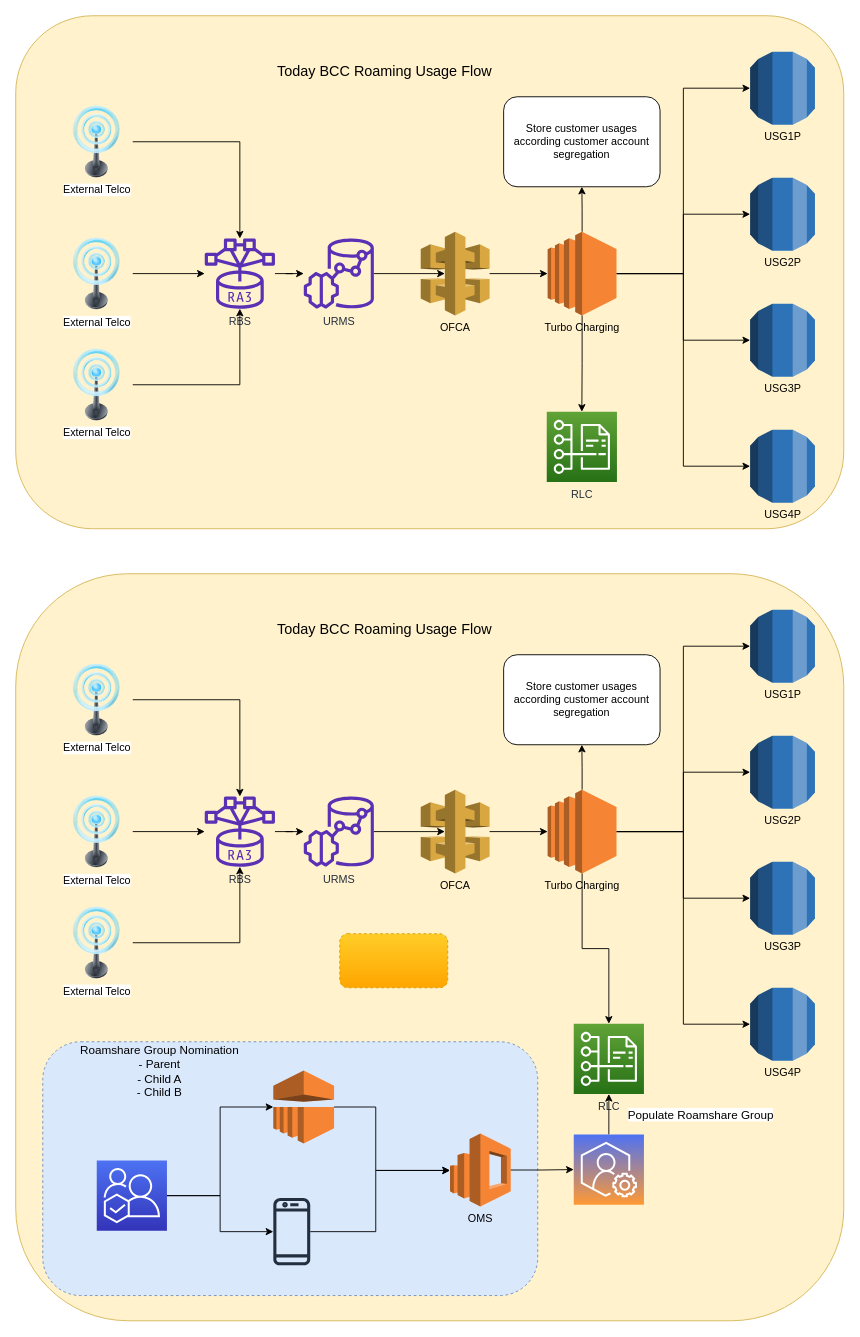
Some shapes in this 860 by 1337 pixel diagram are drawn without their labels. Each missing label, with the box of its shape:
Based on Roam: (339, 933, 448, 988)
CM: (573, 1134, 644, 1205)
CRM: (272, 1070, 334, 1143)
MSTA: (273, 1196, 310, 1266)
